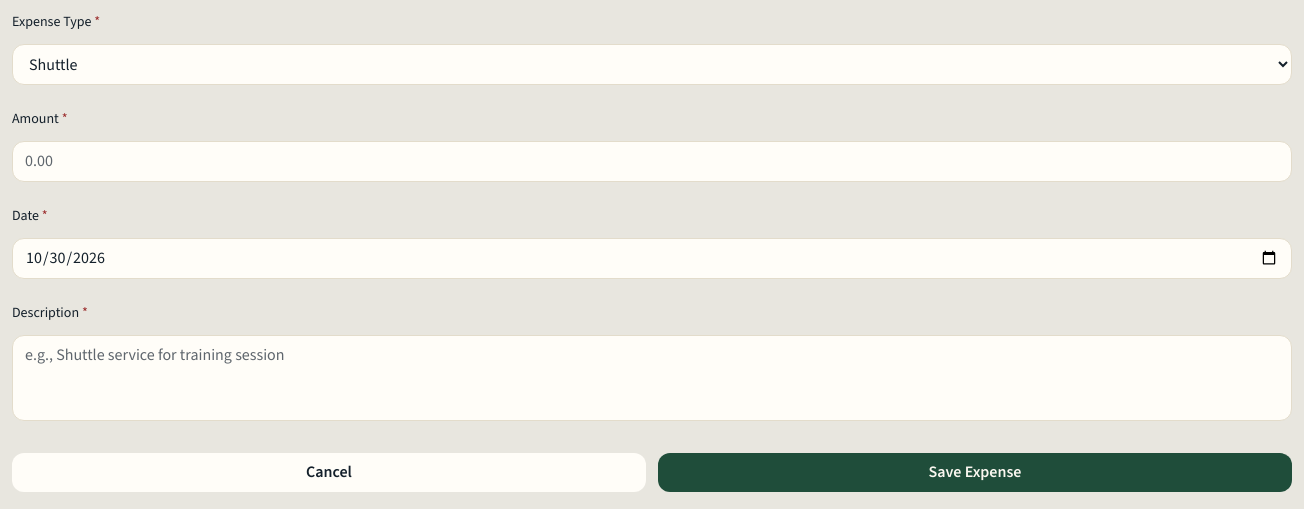
Scenario: AddExpenseForm › Form Cancel › clears form when cancel is clicked
Select "Supplies" in the dropdown labelled "Expense Type *". click: (652, 64)
box: [12,44,1292,85]
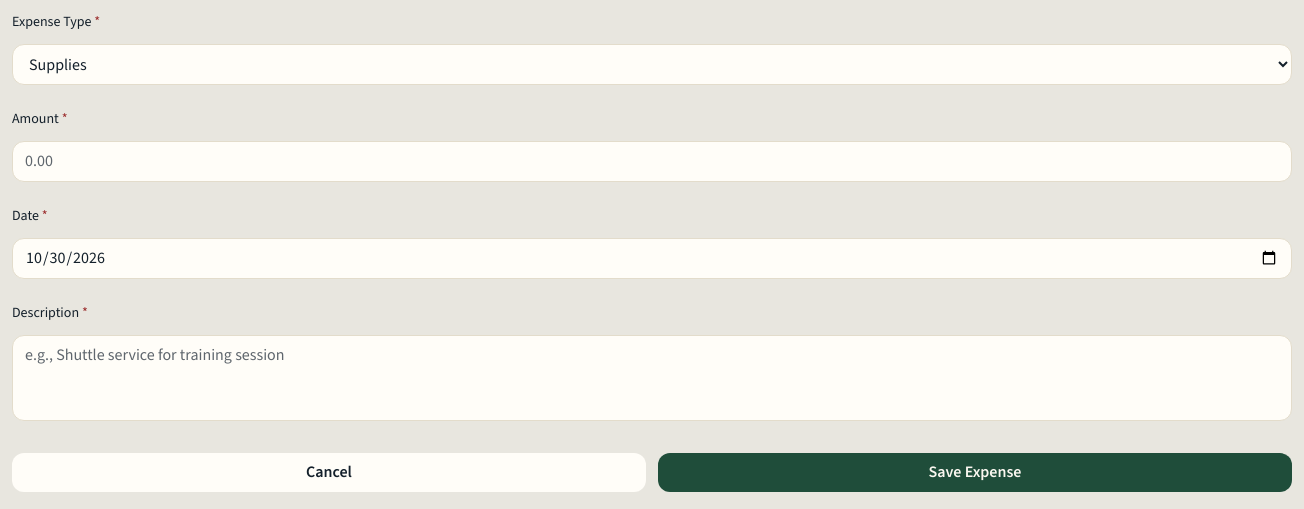
Type "999" into the number field labelled "Amount *". click: (652, 161)
box: [12,141,1292,182]
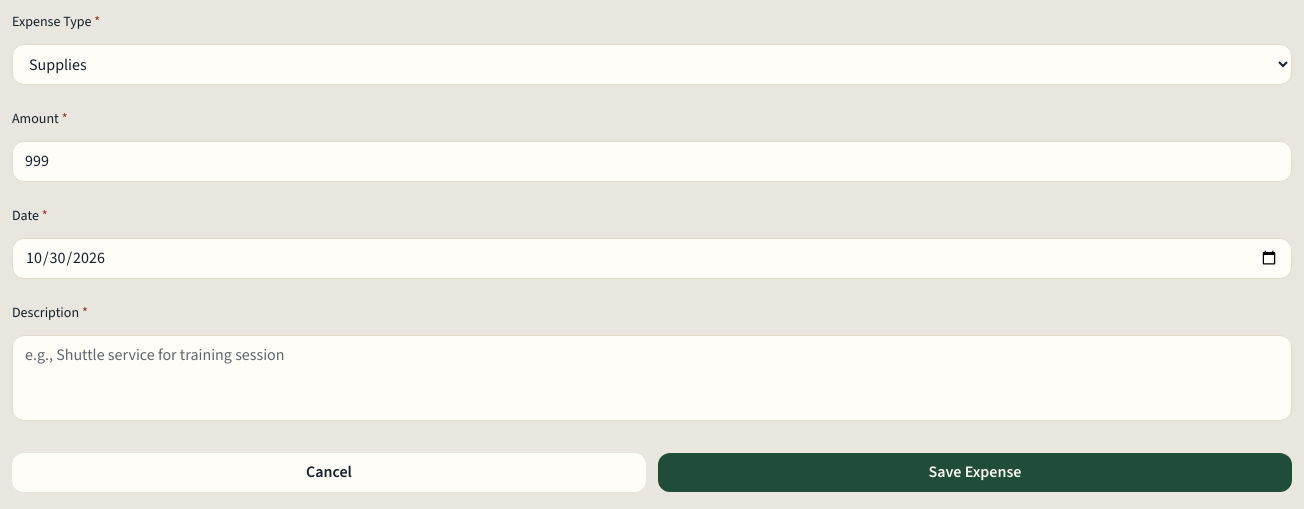
Type "Some description" into the text box labelled "Description *". click: (652, 378)
box: [12,335,1292,421]
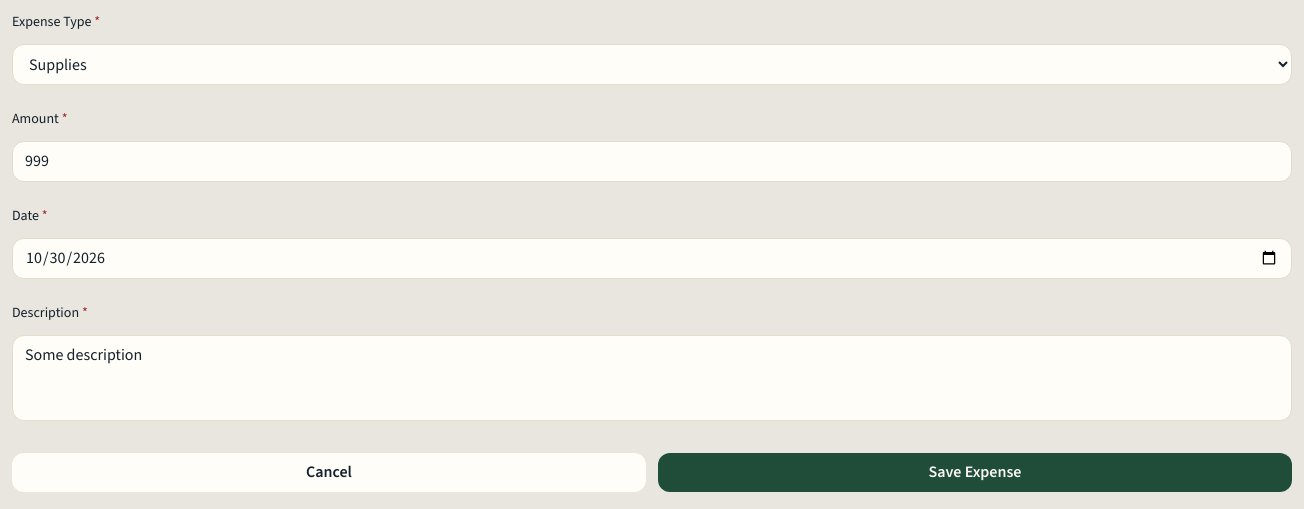
Click the button "Cancel". click: (329, 473)
box: [12,453,646,492]
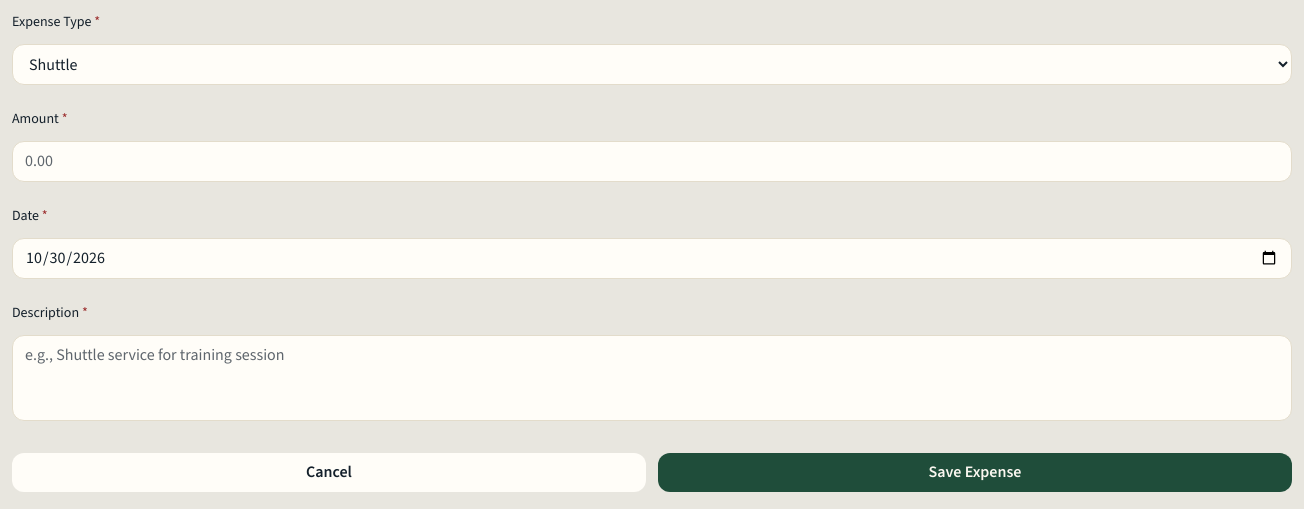
Expected: the number field labelled "Amount *" is empty, [12,141,1292,182]
Expected: the text box labelled "Description *" is empty, [12,335,1292,421]
